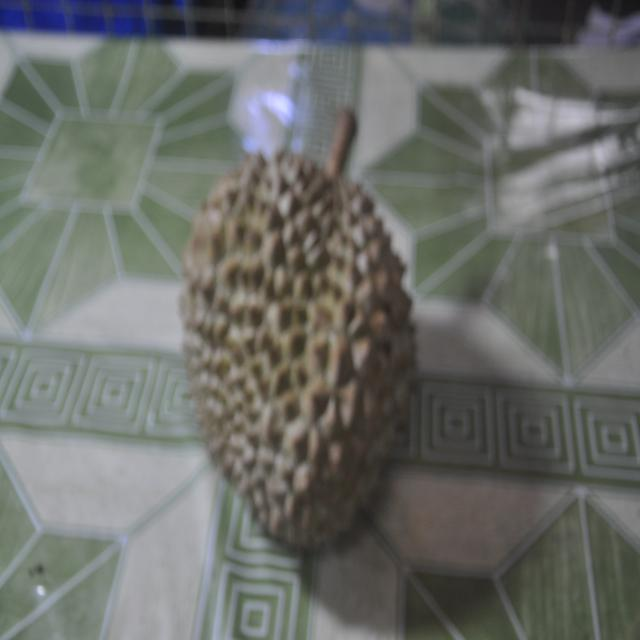mature: (150, 89, 449, 570)
